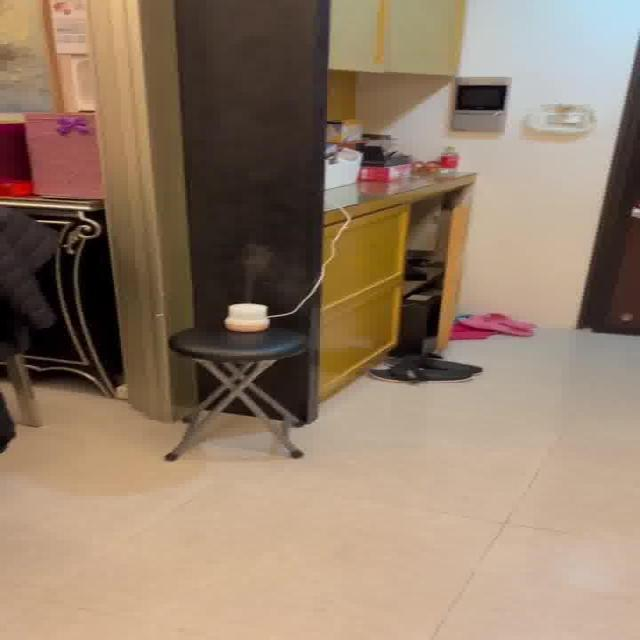fire: (228, 243, 296, 299)
